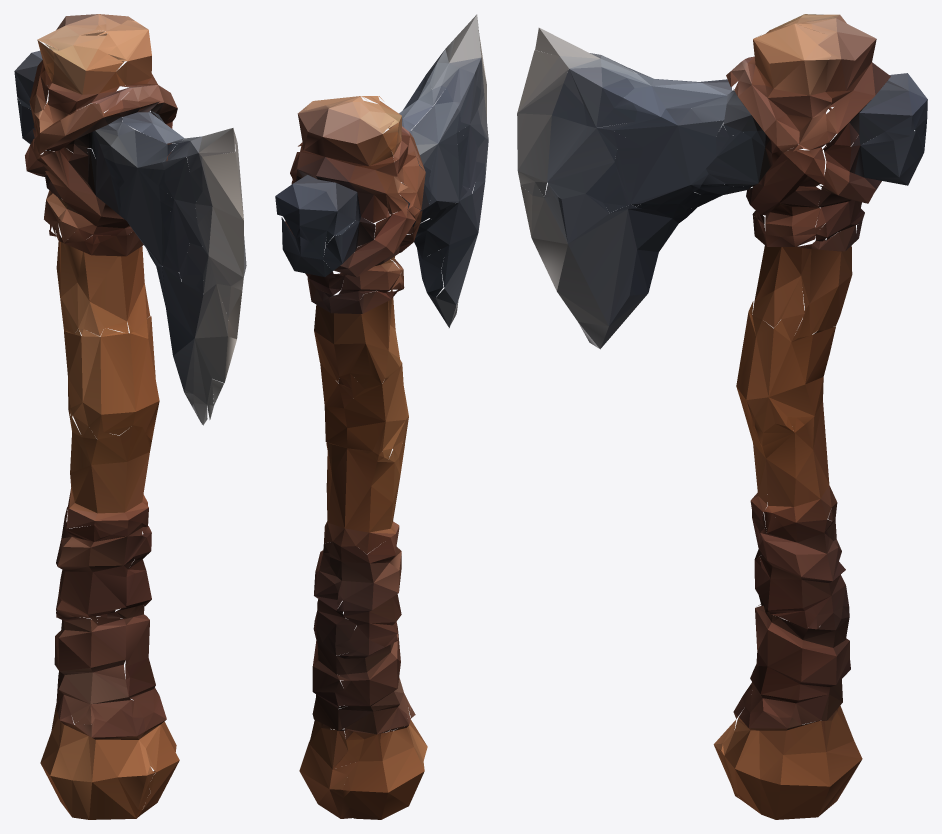
Rendered from ironAxe.glb.
The picture shows the model from 3 angles, left to right: view 1: azimuth 30°, elevation 25°; view 2: azimuth 150°, elevation 25°; view 3: azimuth 270°, elevation 25°; orthographic projection. The views are drawn at different scales.
Parts seen in each view (by area): view 1: 0_ironAxe; view 2: 0_ironAxe; view 3: 0_ironAxe.
Part boxes in pixels (x1,y1,x2,y2): 0_ironAxe: (14,14,246,819); 0_ironAxe: (275,14,488,819); 0_ironAxe: (517,14,927,819).
Size of the model in its own units: 0.1073 by 0.6002 by 0.2875.
